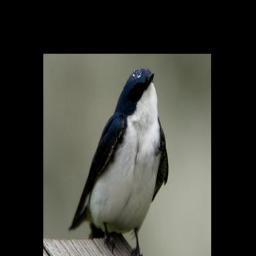Swallow: (68, 67, 169, 256)
